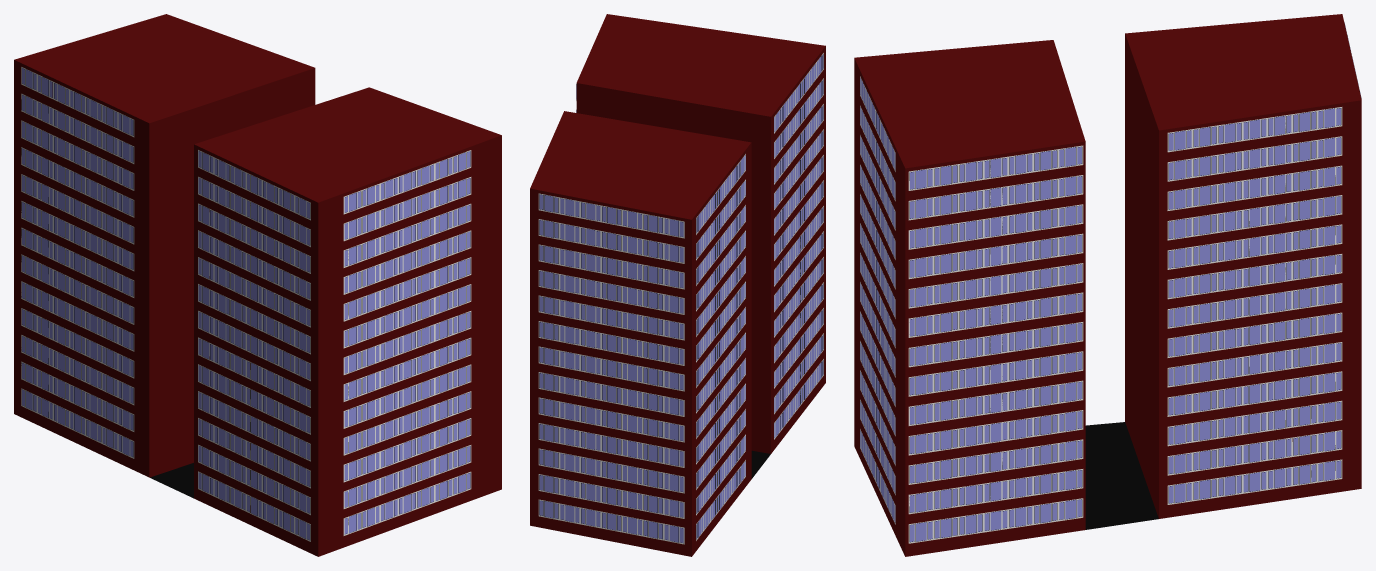
Rendered from 60KensingtonBoulevard.fbx.
3 views of the same model, side by side, from view 1: azimuth 30°, elevation 25°; view 2: azimuth 150°, elevation 25°; view 3: azimuth 270°, elevation 25° (orthographic). The views are drawn at different scales.
Visible parts, largest first — view 1: 60KensingtonBoulevard; view 2: 60KensingtonBoulevard; view 3: 60KensingtonBoulevard.
Boxes of the visible parts, x1,y1,x2,y2 form: 60KensingtonBoulevard: (14, 14, 501, 556); 60KensingtonBoulevard: (530, 14, 825, 556); 60KensingtonBoulevard: (854, 14, 1361, 556).
Bounding box in the file's own units: 3448 × 4045 × 4789.
